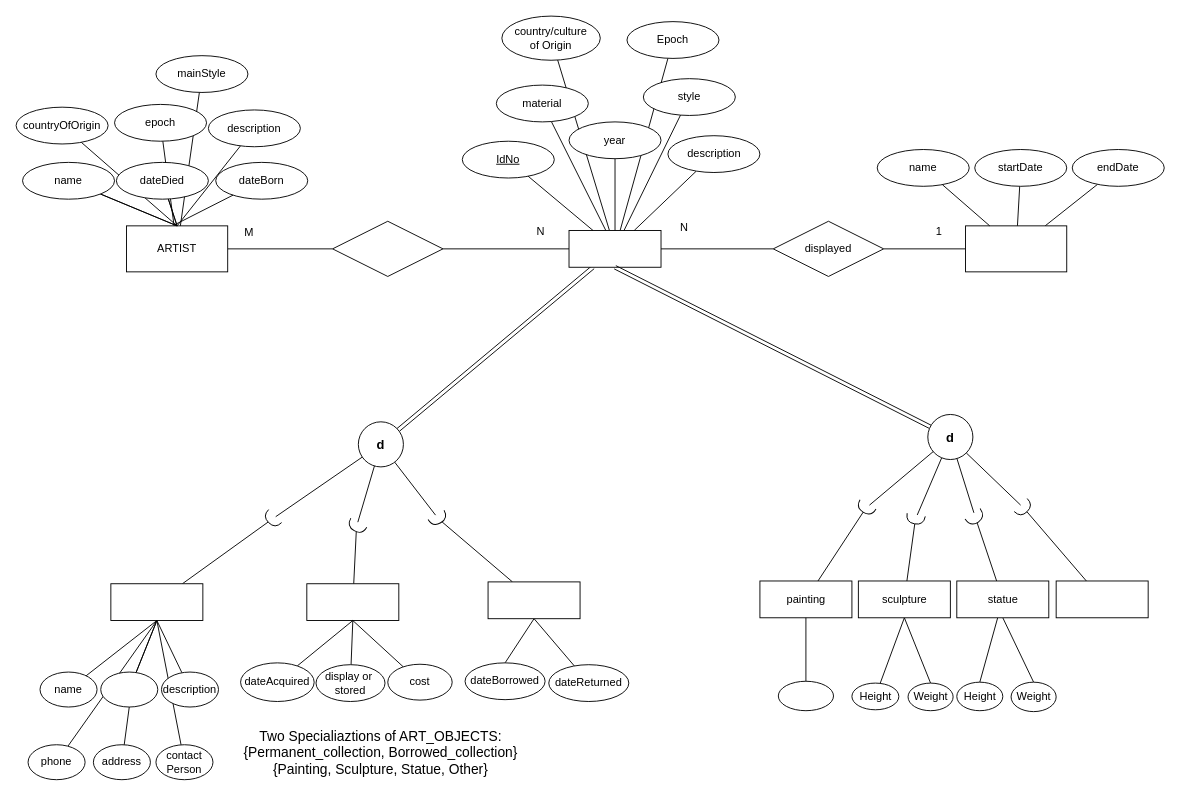
Image size: 1180x796. Some labels were removed from this diagram. The box of each missing label's shape, as (x1, y1, x2, y2) in pixels:
ART_OBJECTS: (568, 230, 661, 267)
Borrowed_ Collection: (487, 581, 580, 619)
create: (332, 220, 443, 276)
EXHIBITIONS: (965, 225, 1067, 272)
other: (1055, 580, 1148, 618)
Other_ Collection: (110, 583, 203, 621)
paint_type: (777, 680, 834, 711)
Permanent_ Collection: (306, 583, 399, 621)
type: (100, 671, 158, 707)
